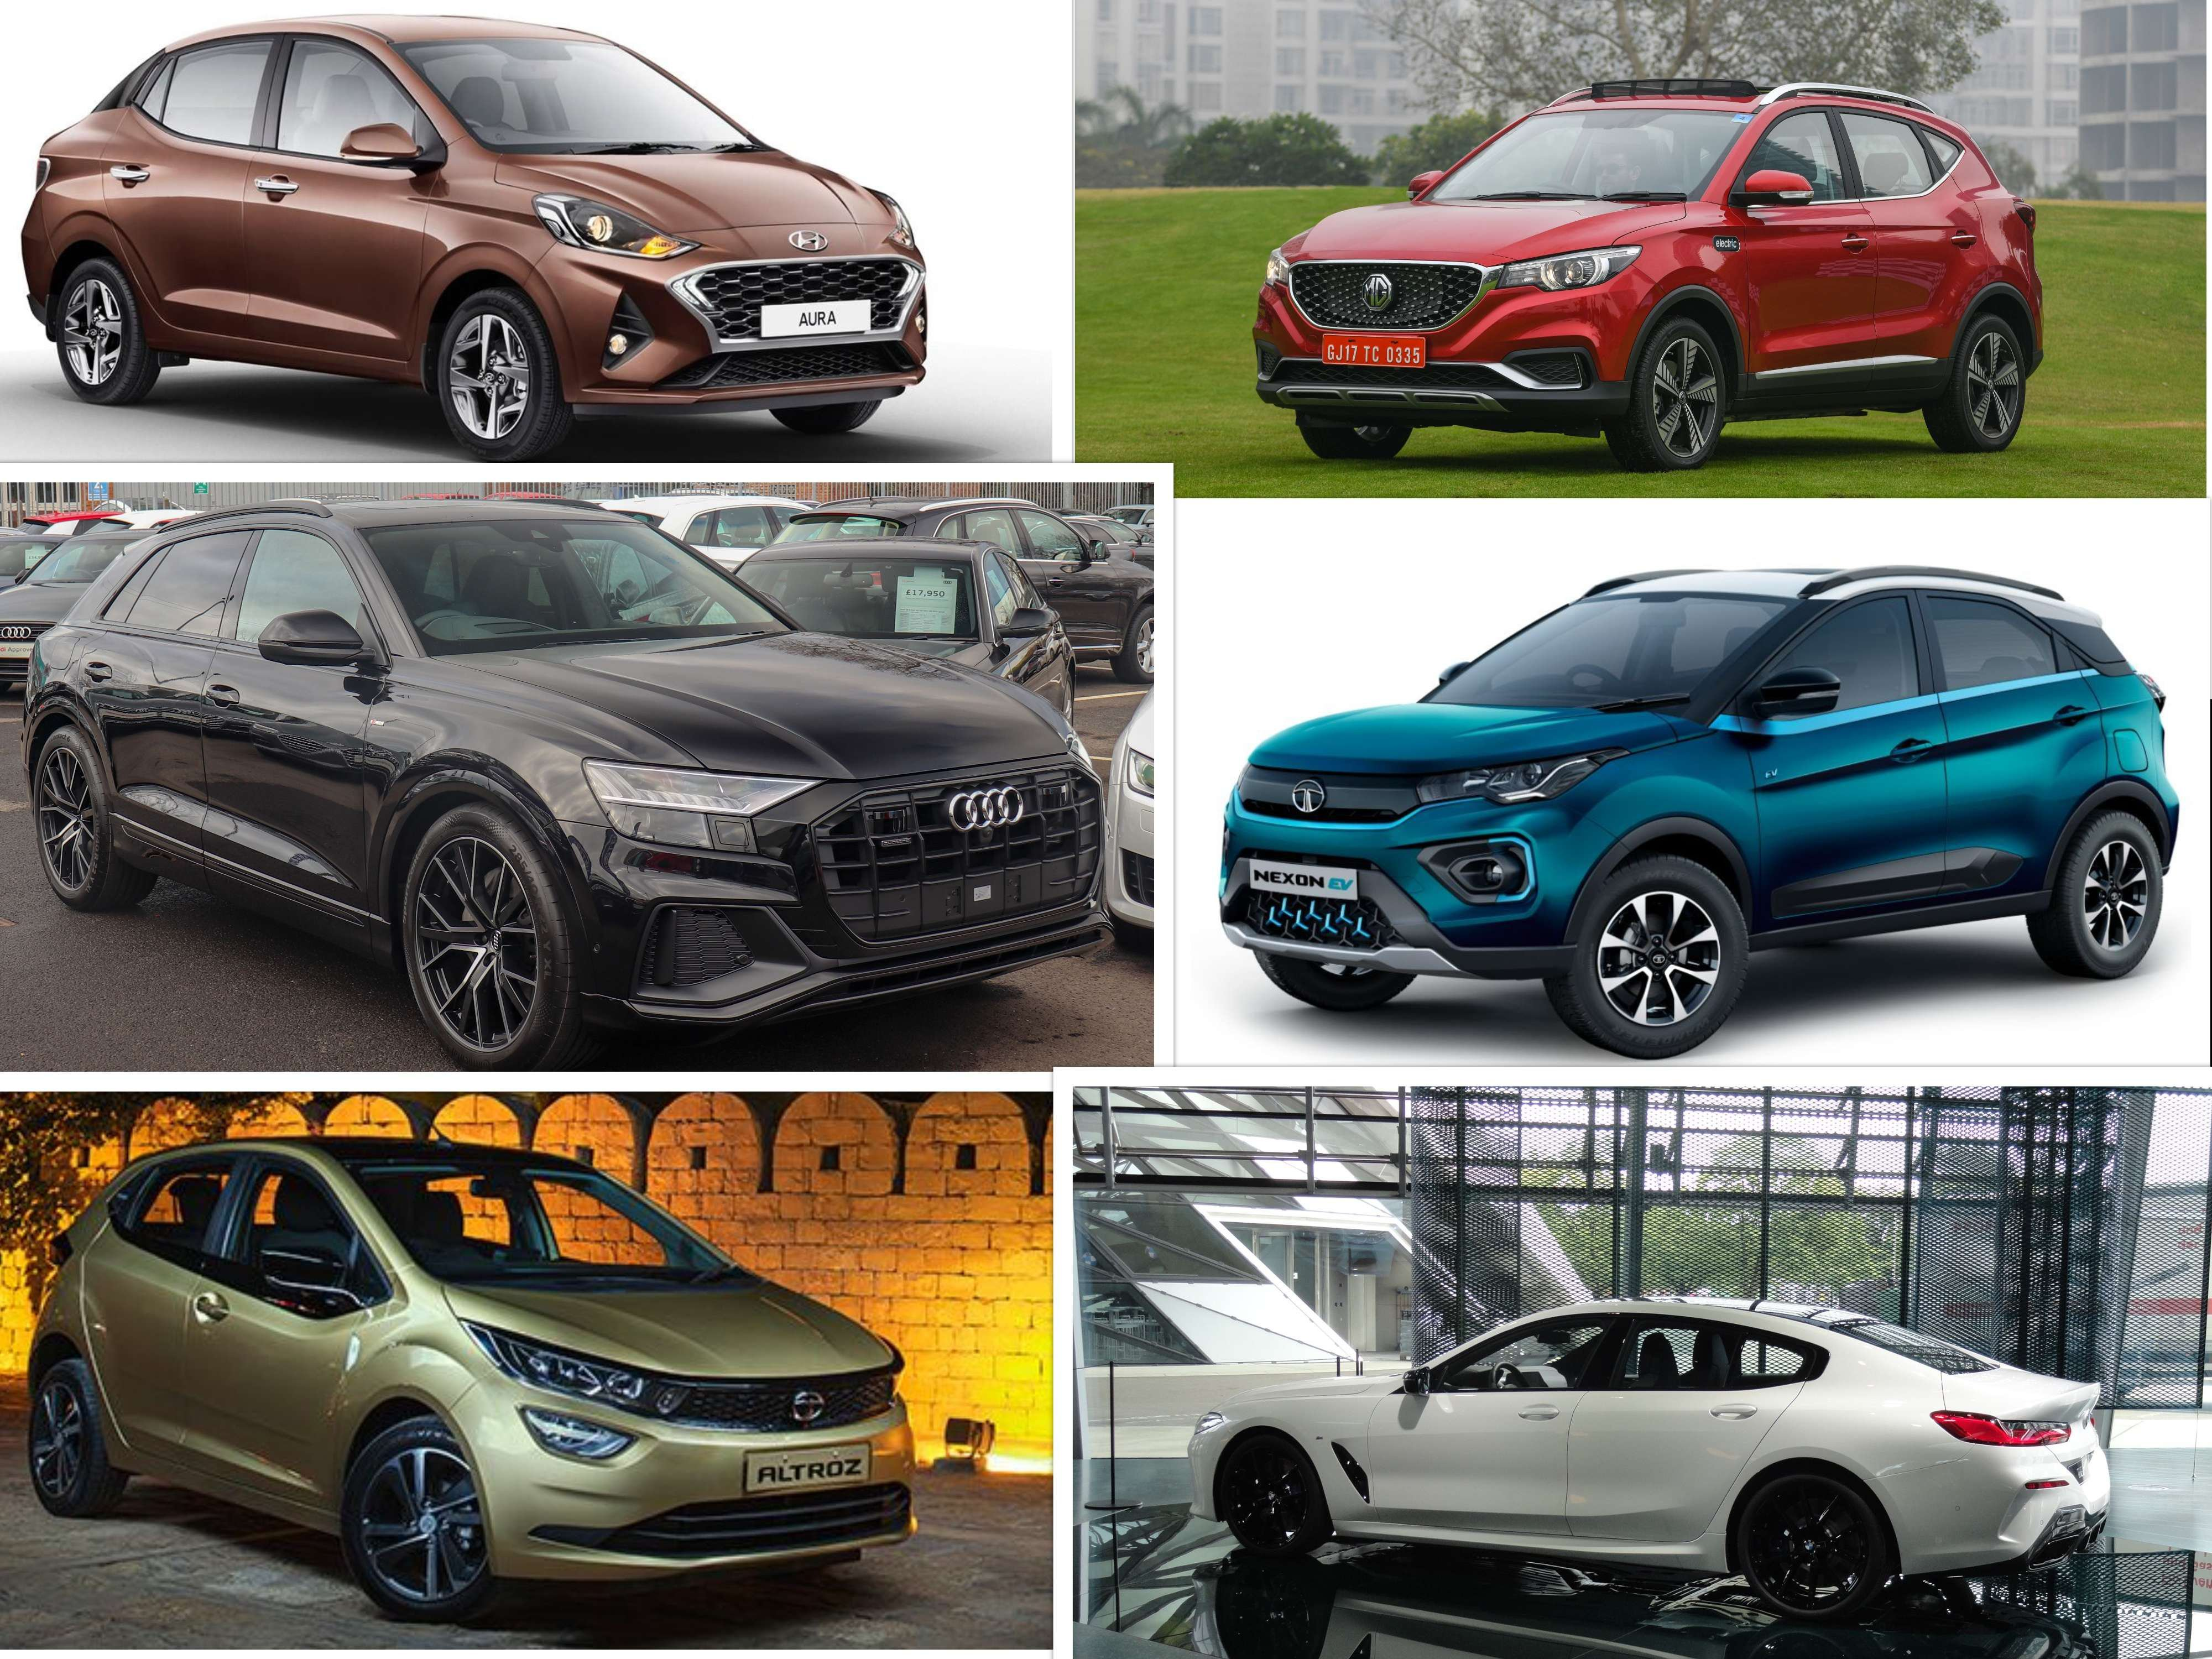car: (28, 493, 1108, 1028), (1223, 549, 2189, 1040), (26, 1114, 958, 1600), (31, 17, 937, 437), (1195, 1272, 2125, 1635), (1263, 44, 2048, 455)
